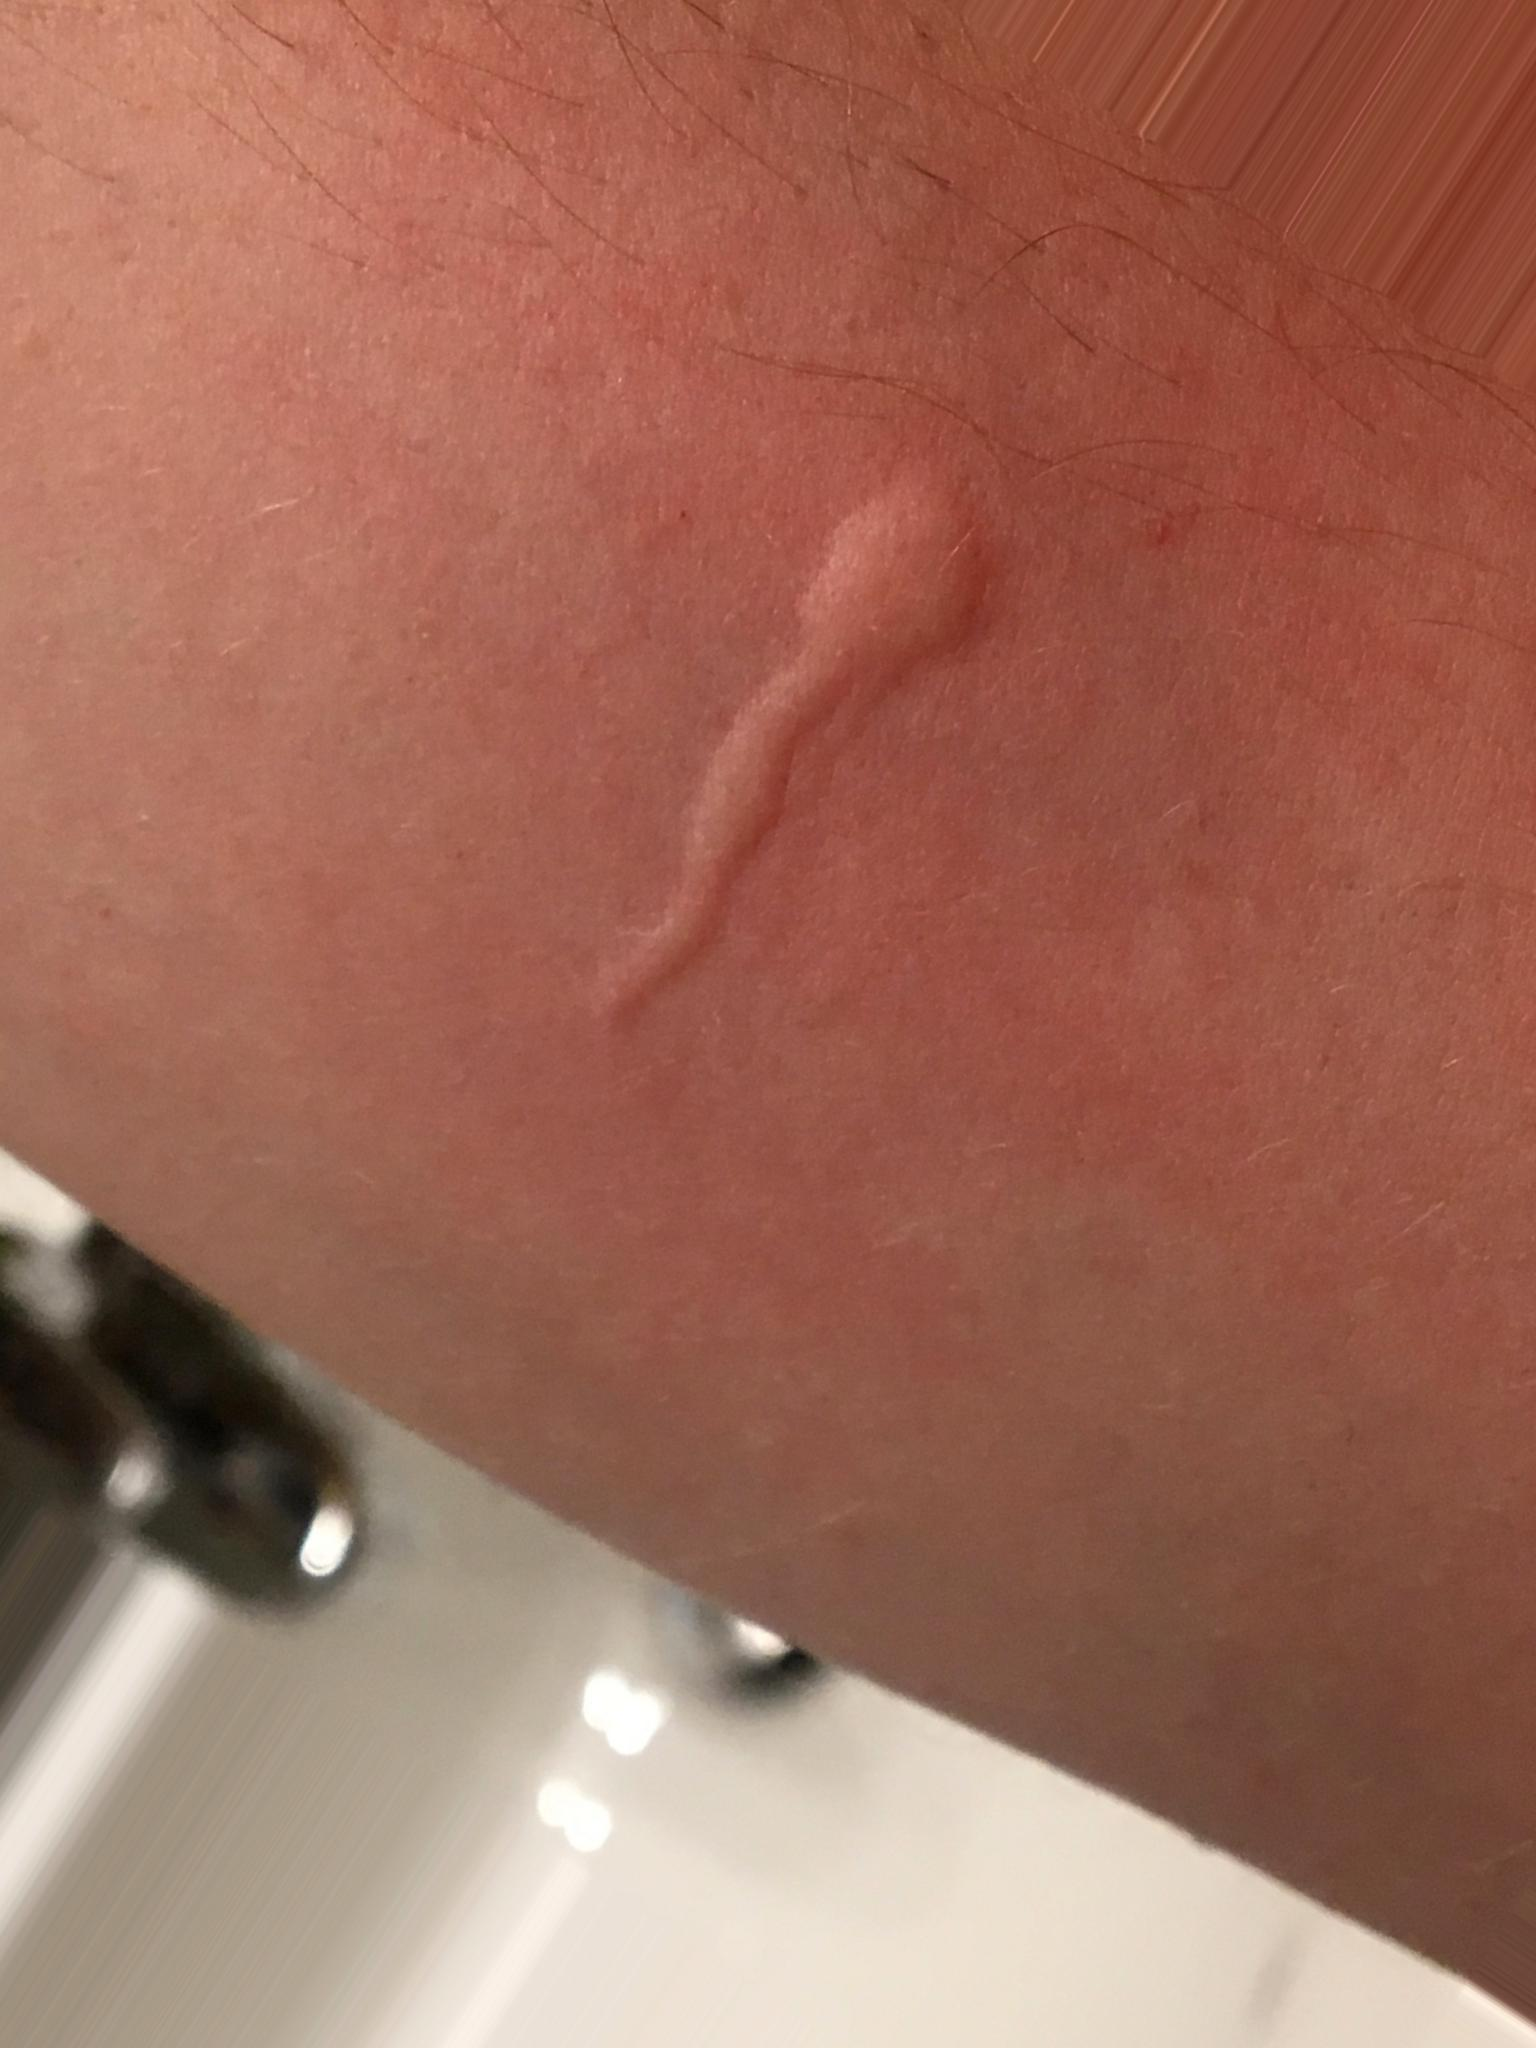Mosquito: (574, 418, 1039, 1089)
